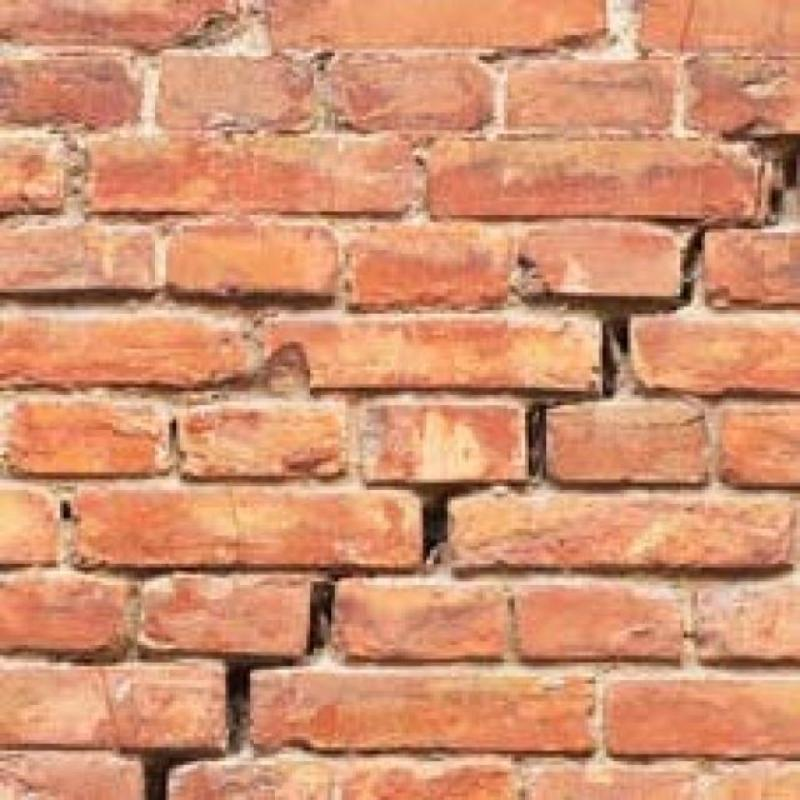pothole: (130, 220, 714, 799), (714, 138, 799, 230), (678, 0, 698, 56)
